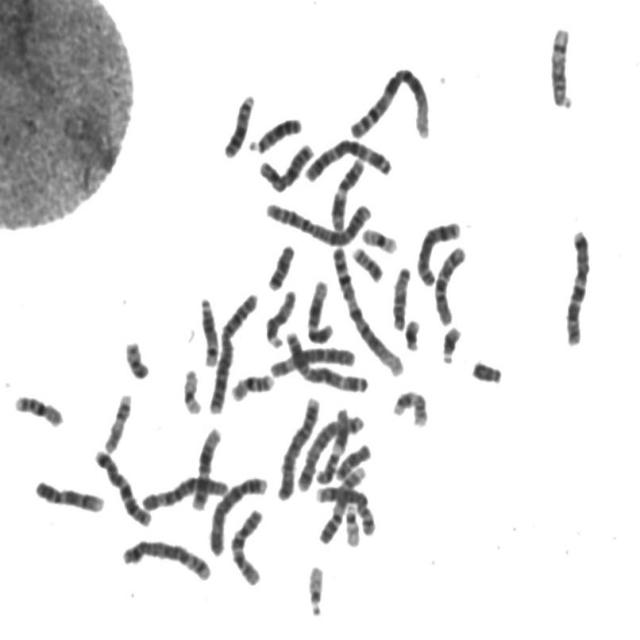A1: (328, 240, 406, 378), (346, 61, 434, 142)
A2: (205, 285, 260, 416), (260, 192, 376, 248)
A3: (281, 324, 372, 396), (301, 130, 396, 185)
B4: (206, 468, 271, 557), (274, 390, 322, 502)
B5: (293, 407, 367, 493), (118, 532, 215, 583)
C10: (430, 238, 470, 327), (227, 500, 267, 588)
C11: (313, 402, 353, 487), (327, 151, 367, 232)
C12: (187, 420, 224, 513), (304, 272, 338, 345)
C6: (137, 469, 231, 513), (266, 339, 359, 380)
C7: (90, 443, 156, 529), (561, 221, 595, 348)
C8: (313, 478, 378, 538), (414, 213, 465, 288)
C9: (317, 460, 370, 545), (31, 473, 108, 514)
D13: (220, 87, 258, 160), (245, 110, 305, 154)
D14: (546, 20, 578, 111), (196, 289, 223, 368)
D15: (262, 283, 299, 349), (388, 260, 414, 332)
E16: (10, 386, 67, 429), (228, 366, 277, 403)
E17: (101, 386, 135, 456), (389, 382, 432, 428)
E18: (264, 237, 298, 292), (332, 436, 373, 481)
F19: (359, 220, 401, 255), (179, 362, 205, 416)
F20: (348, 241, 386, 283), (121, 334, 153, 381)
G21: (438, 320, 466, 366), (401, 312, 424, 353)
G22: (304, 558, 327, 618), (342, 498, 362, 548)
X: (255, 136, 317, 193)
Y: (468, 353, 506, 385)
